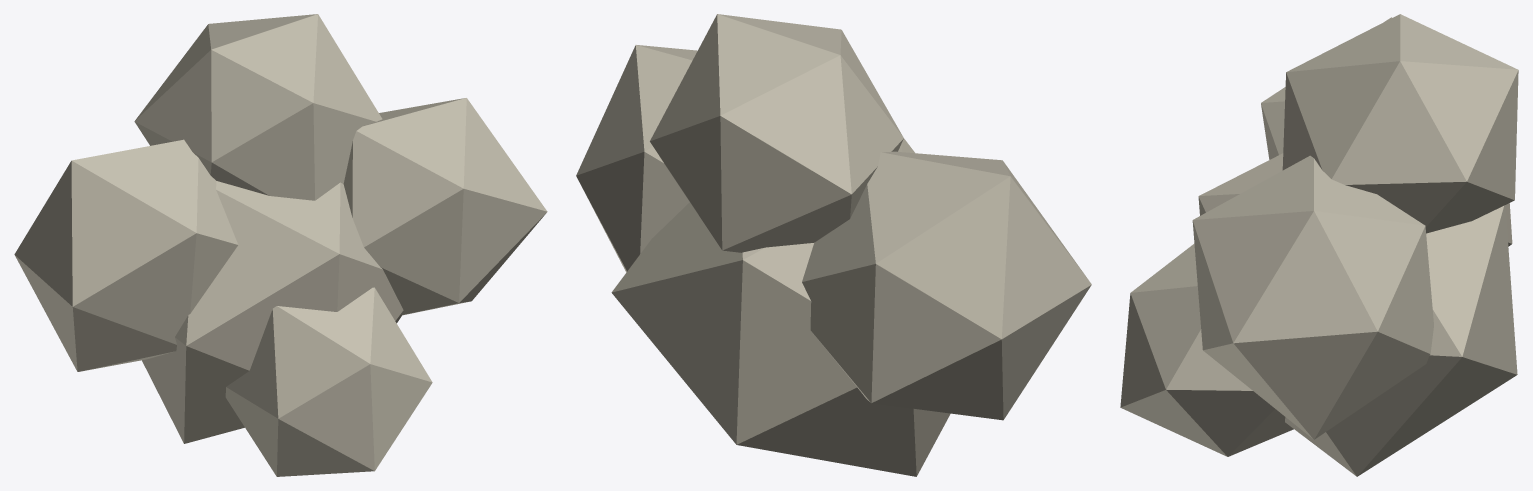
Rendered from puff.glb.
3 views of the same model, side by side, from view 1: azimuth 30°, elevation 25°; view 2: azimuth 150°, elevation 25°; view 3: azimuth 270°, elevation 25° (orthographic). The views are drawn at different scales.
Visible parts, largest first — view 1: puff; view 2: puff; view 3: puff.
Part boxes in pixels (<box>): puff: <box>14,14,547,476</box>; puff: <box>576,14,1091,476</box>; puff: <box>1120,14,1518,476</box>.
Bounding box in the file's own units: 0.6507 × 0.5357 × 0.4622.
